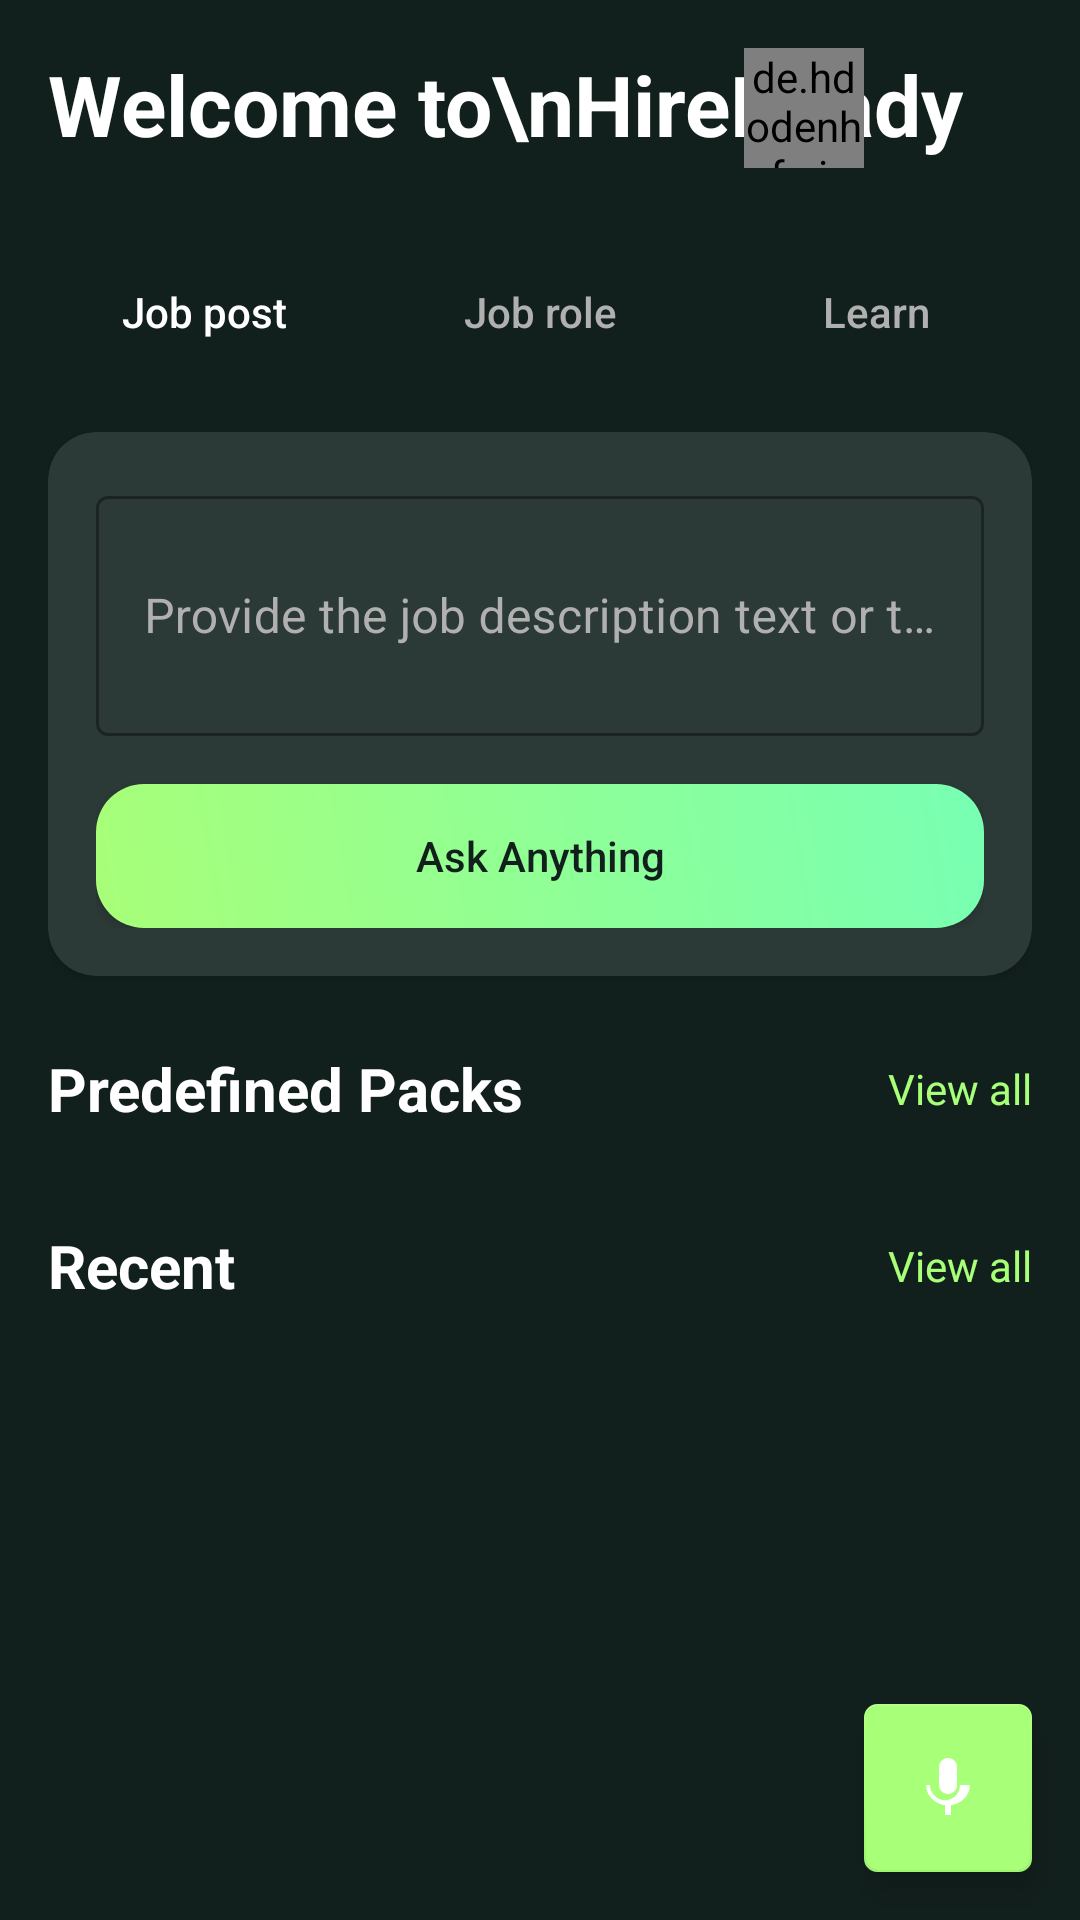

Named icons in this screenshot (1080px x 1920px) and their bounding boxes, (x1, y1, x2, y2):
mic: (864, 1704, 1032, 1872)
